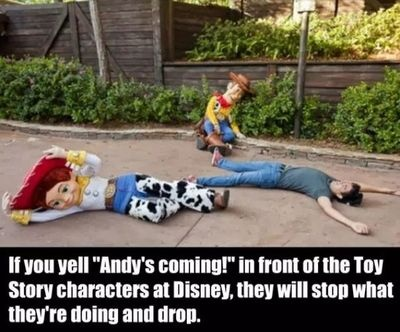falling: (184, 70, 262, 156)
